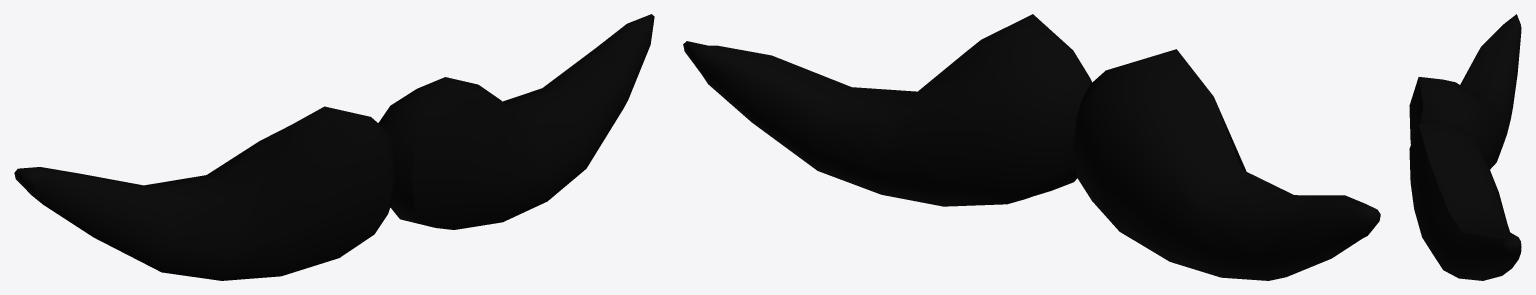
Rendered from Hair_17.fbx.
The picture shows the model from 3 angles, left to right: view 1: azimuth 30°, elevation 25°; view 2: azimuth 150°, elevation 25°; view 3: azimuth 270°, elevation 25°; orthographic projection. The views are drawn at different scales.
Visible parts, largest first — view 1: Hair_17; view 2: Hair_17; view 3: Hair_17.
Part boxes in pixels (x1=…): Hair_17: x1=14, y1=14, x2=654, y2=280; Hair_17: x1=683, y1=14, x2=1380, y2=280; Hair_17: x1=1409, y1=14, x2=1521, y2=280.
Bounding box in the file's own units: 127 × 30.66 × 26.05.
